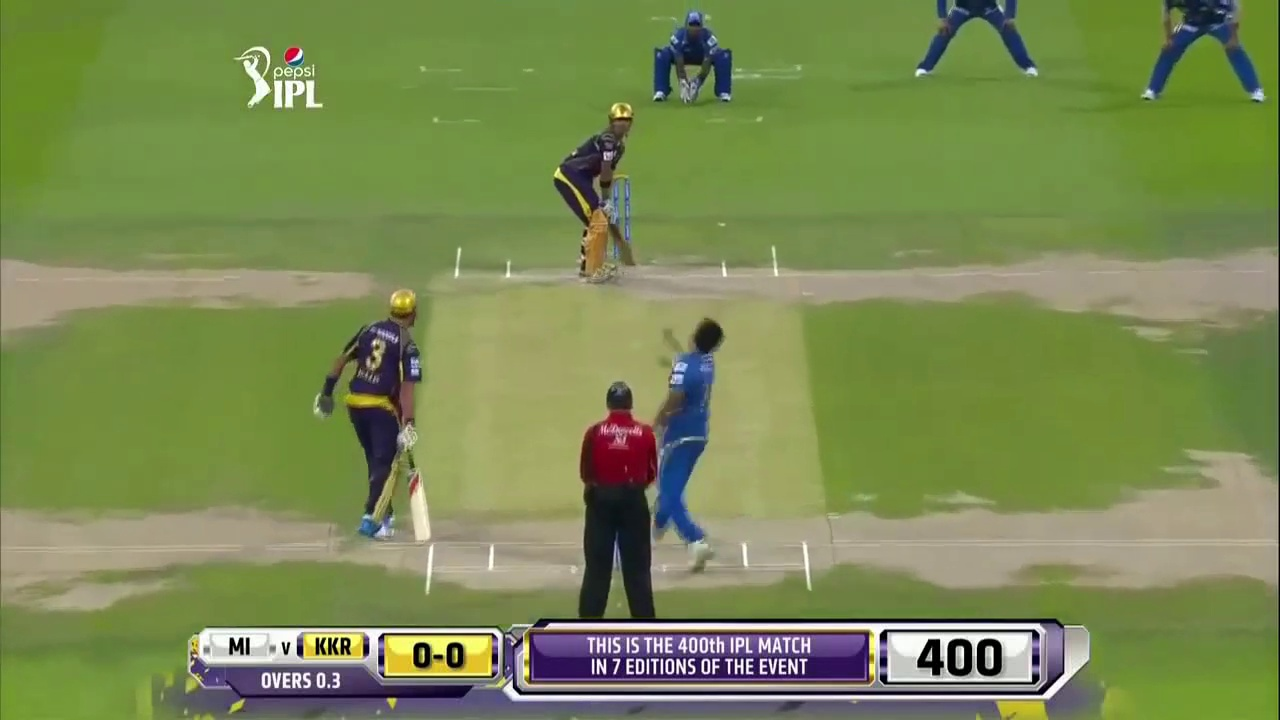bat: (406, 452, 431, 543)
